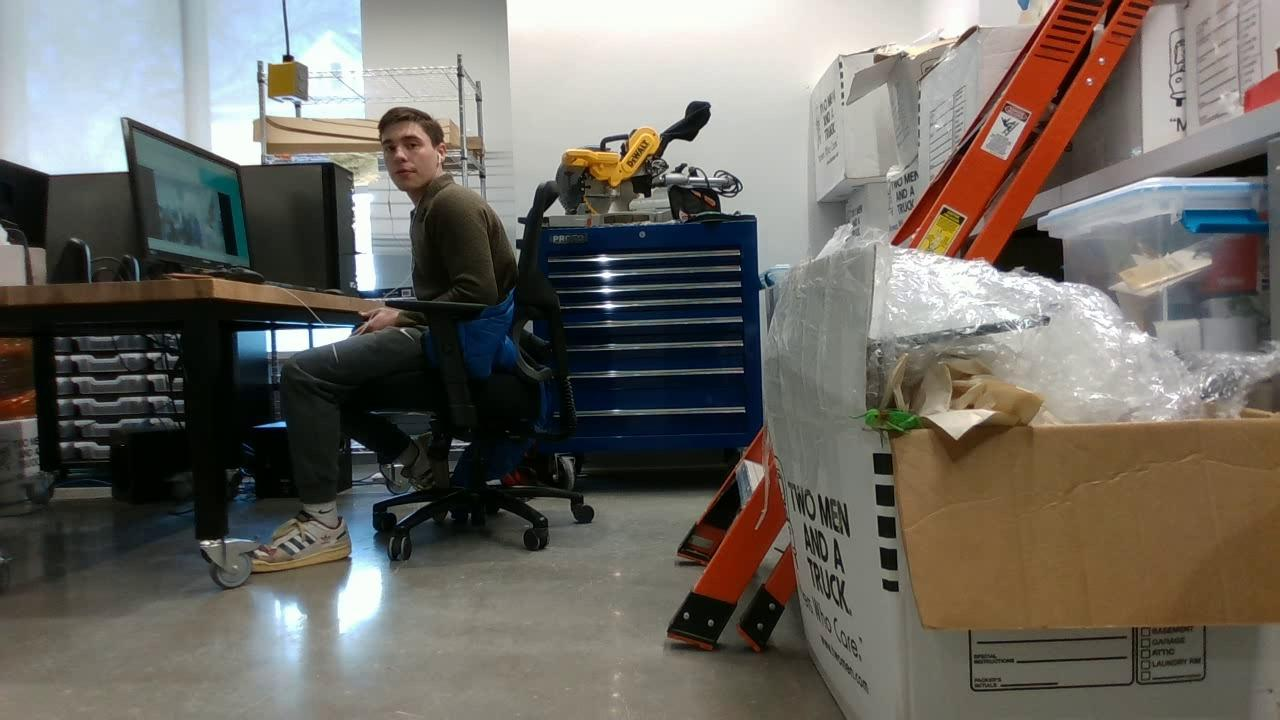grasshopper: (858, 404, 921, 440)
